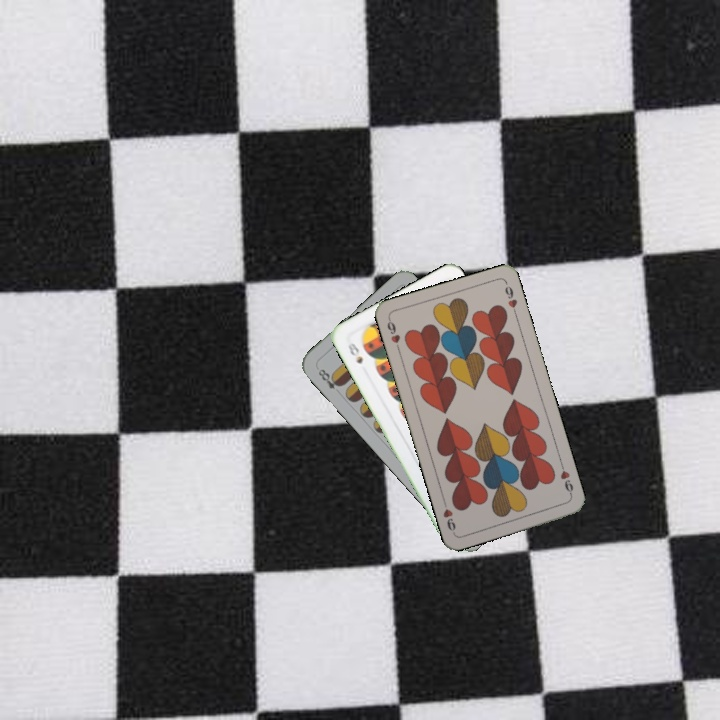E8: (314, 365, 345, 392)
H9: (383, 314, 403, 354), (556, 459, 576, 499)
S8: (344, 338, 365, 367)
